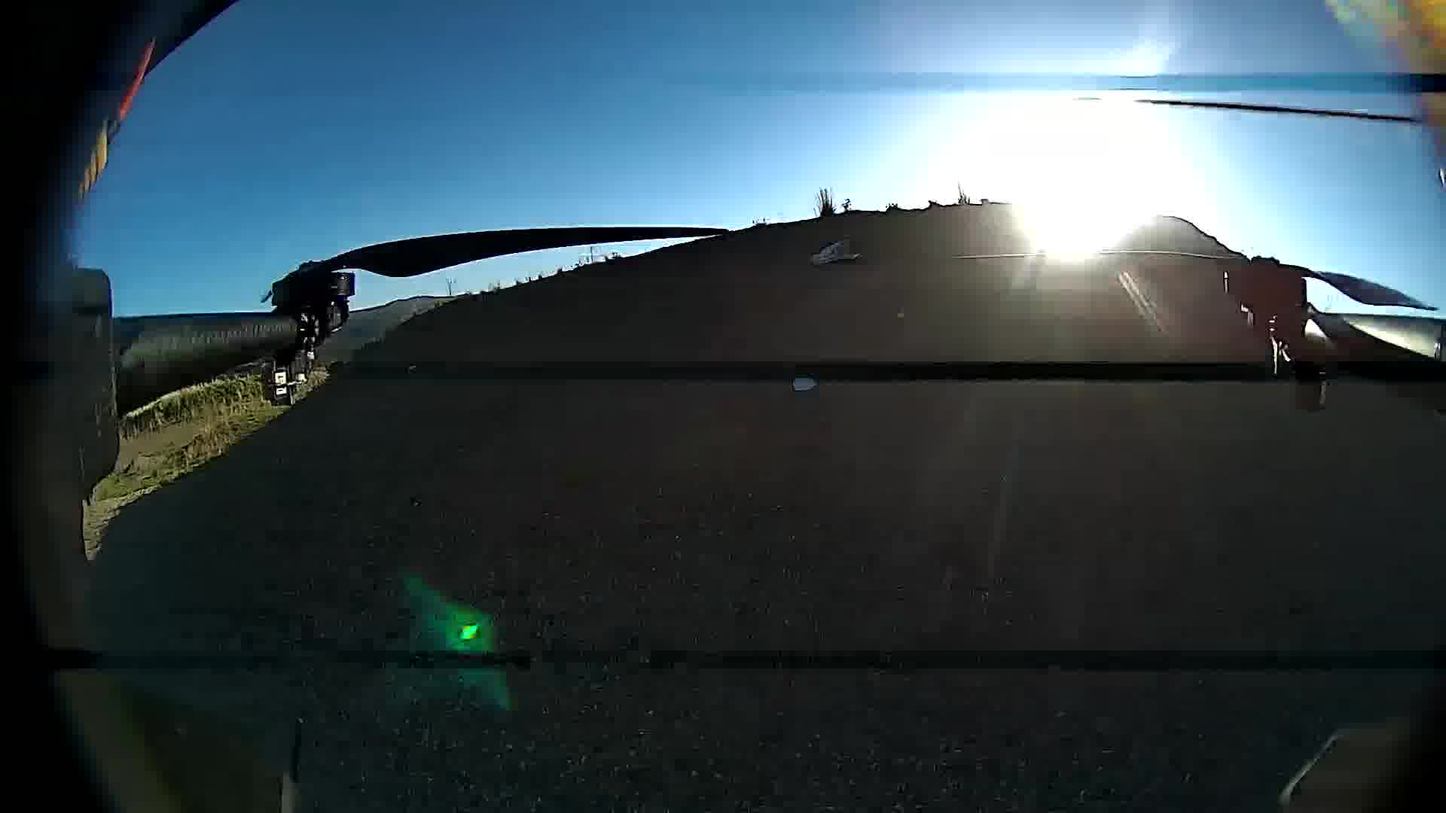Target: (791, 375, 820, 392)
